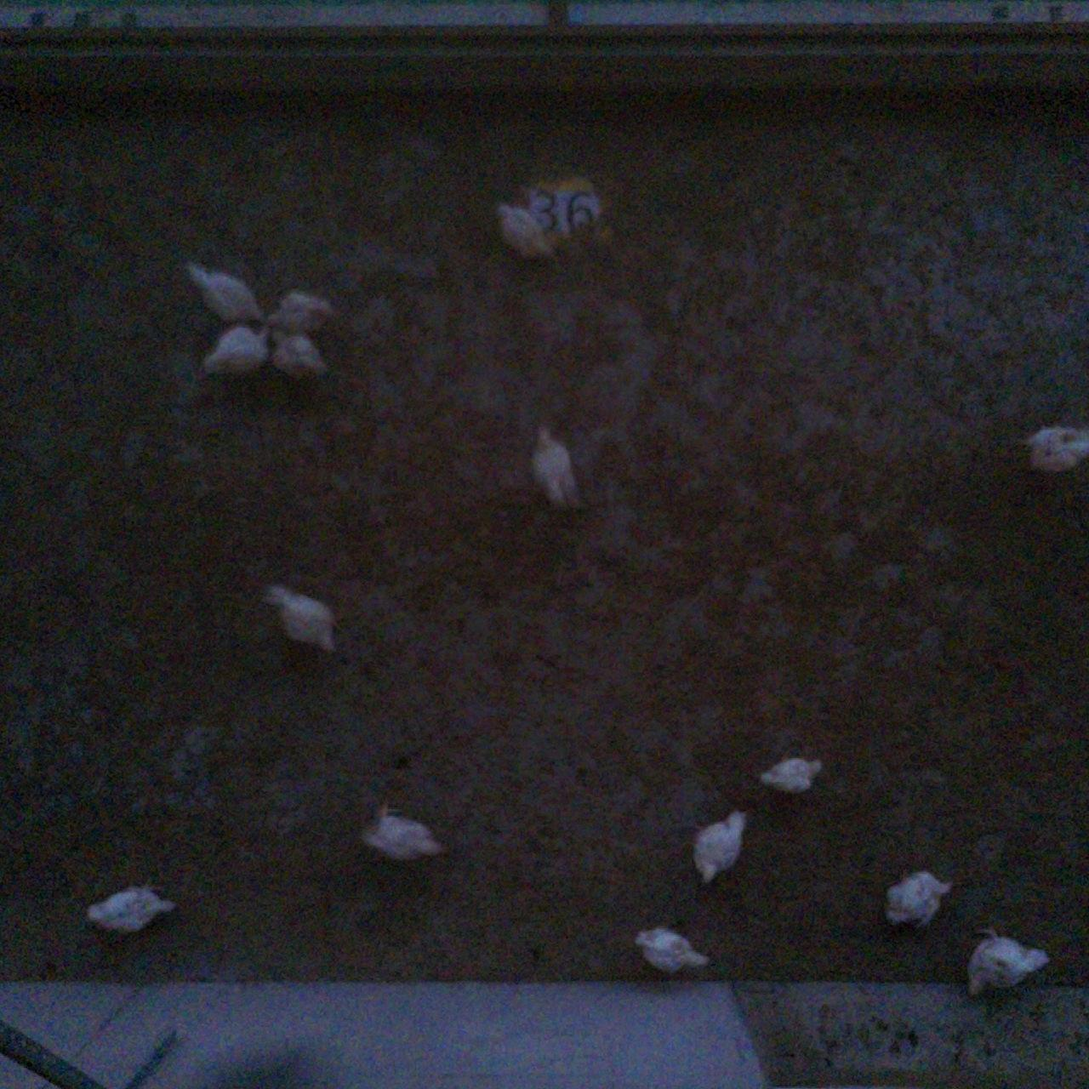chicken: (259, 577, 356, 647), (954, 927, 1046, 1000), (72, 877, 180, 938), (183, 259, 271, 327), (518, 422, 584, 510), (360, 807, 445, 869), (684, 804, 749, 884), (489, 203, 561, 269), (873, 866, 944, 932), (629, 920, 716, 973), (752, 748, 825, 803), (266, 289, 343, 340), (260, 335, 337, 384), (1028, 418, 1089, 476), (201, 324, 267, 377)
